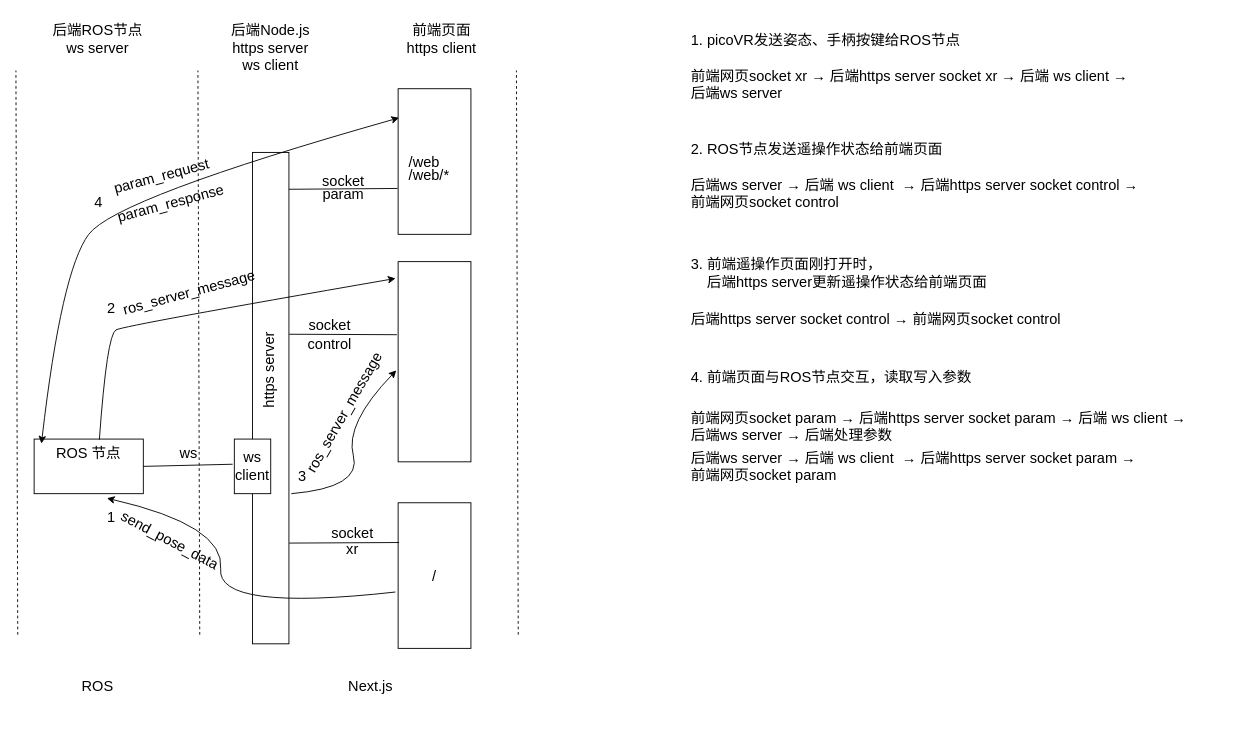
This 1260x741 diagram has some shape labels left out. The shapes that lost their labels are listed below. From the top down, each one's box as (x1, y1, x2, y2) in pixels, then its label:
(397, 261, 471, 462): /teleop
(33, 438, 143, 494): ws server
